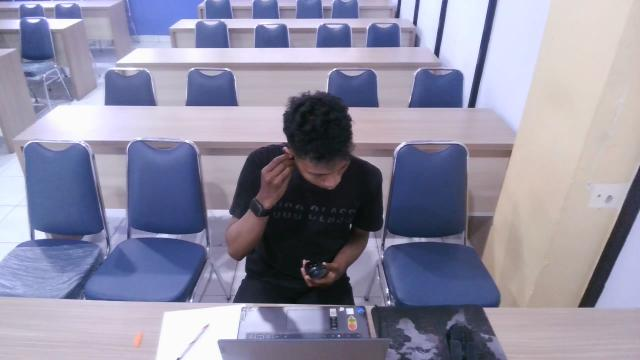Earpiece: (271, 144, 300, 171)
Head_Down_Extreme: (220, 85, 387, 320)
